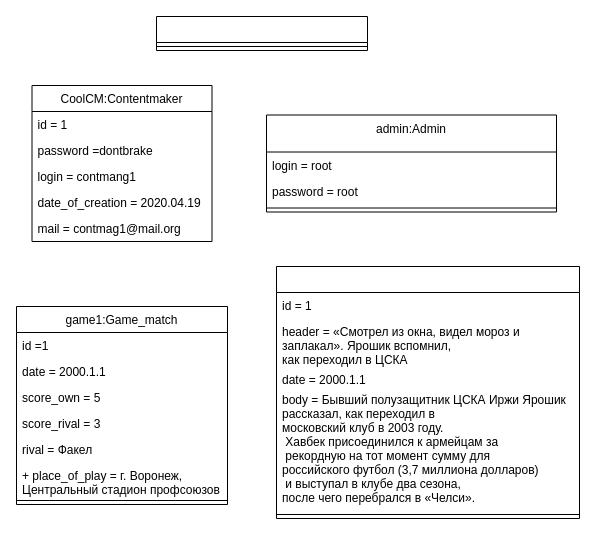
The diagram is 596 pixels wide and 535 high, and some of its shapes have lost their labels. The shapes that lost their labels are listed below. From the top down, each one's box as (x1, y1, x2, y2) in pixels, then its label:
(156, 16, 368, 50): c1:Client
(276, 266, 580, 518): n1:News
